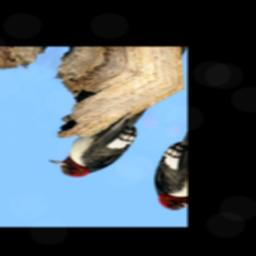Woodpecker: (44, 91, 155, 188)
